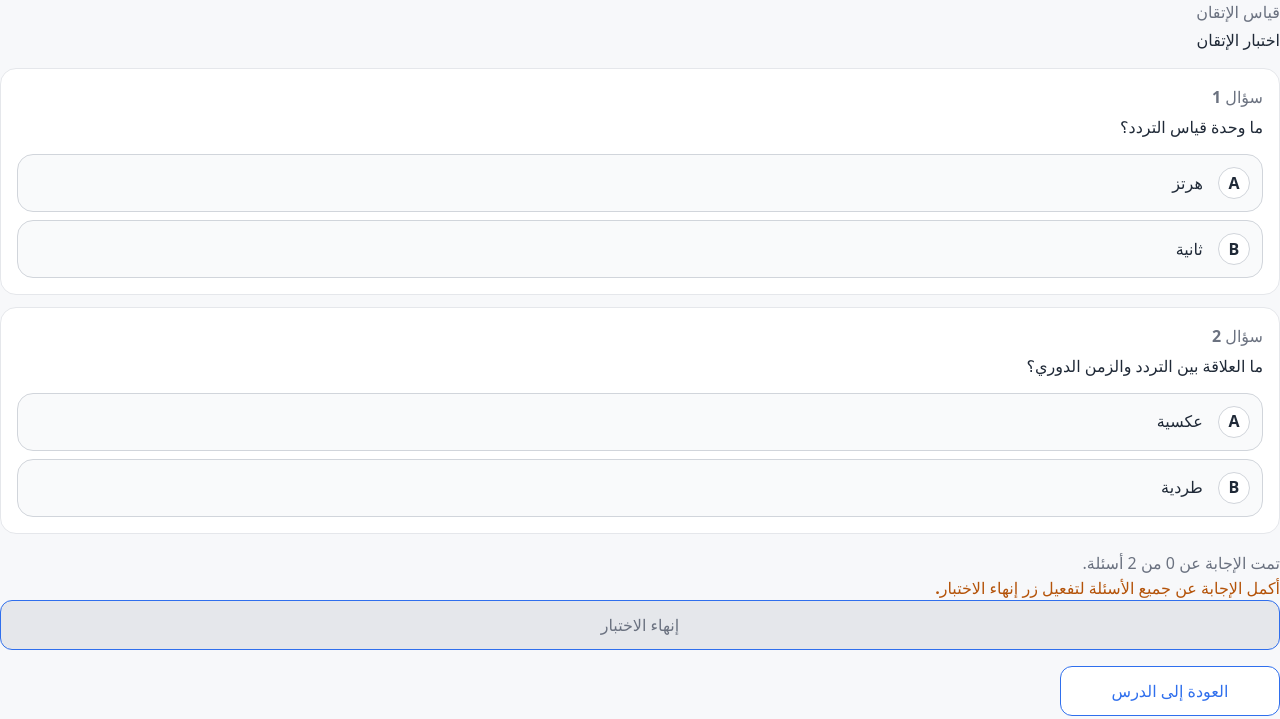
Scenario: MasteryTestView result persistence integration › يعرض النتيجة المحلية فورًا بينما الحفظ ما يزال saving
Click the button "A هرتز".
click(1234, 183)  # box [17,154,1263,212]
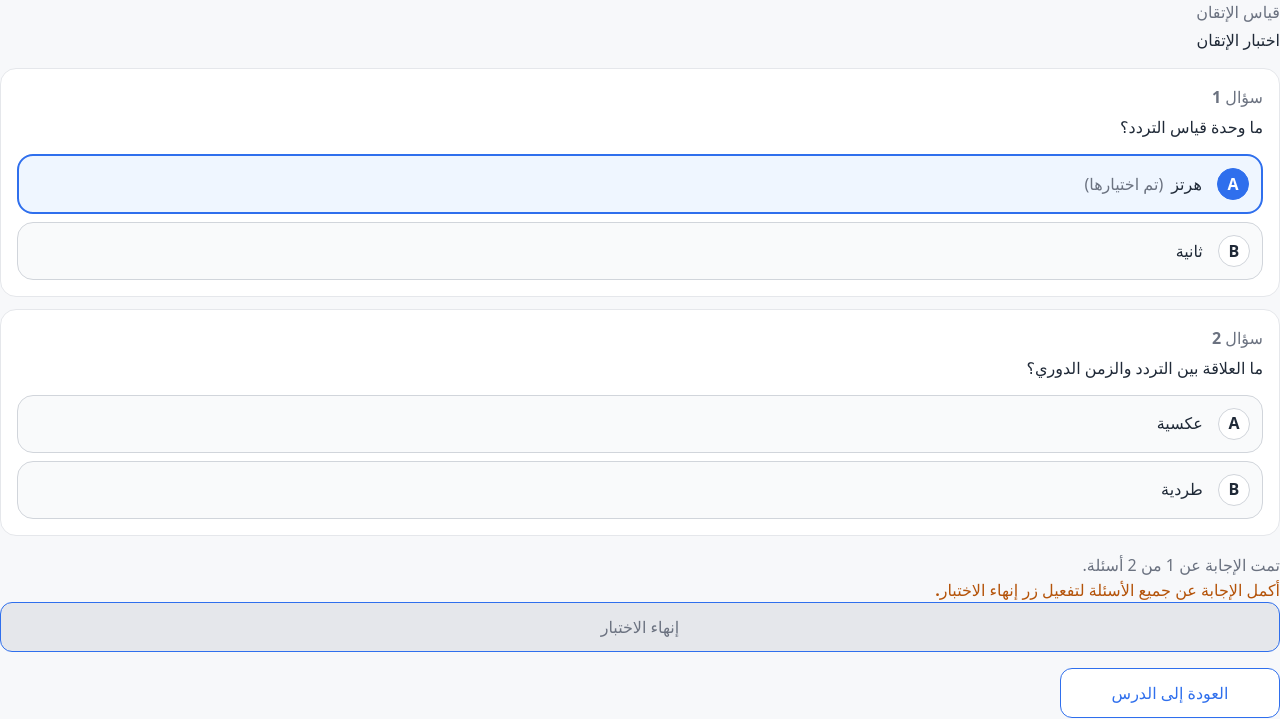
Click the button "A عكسية".
click(1234, 424)  # box [17,395,1263,453]
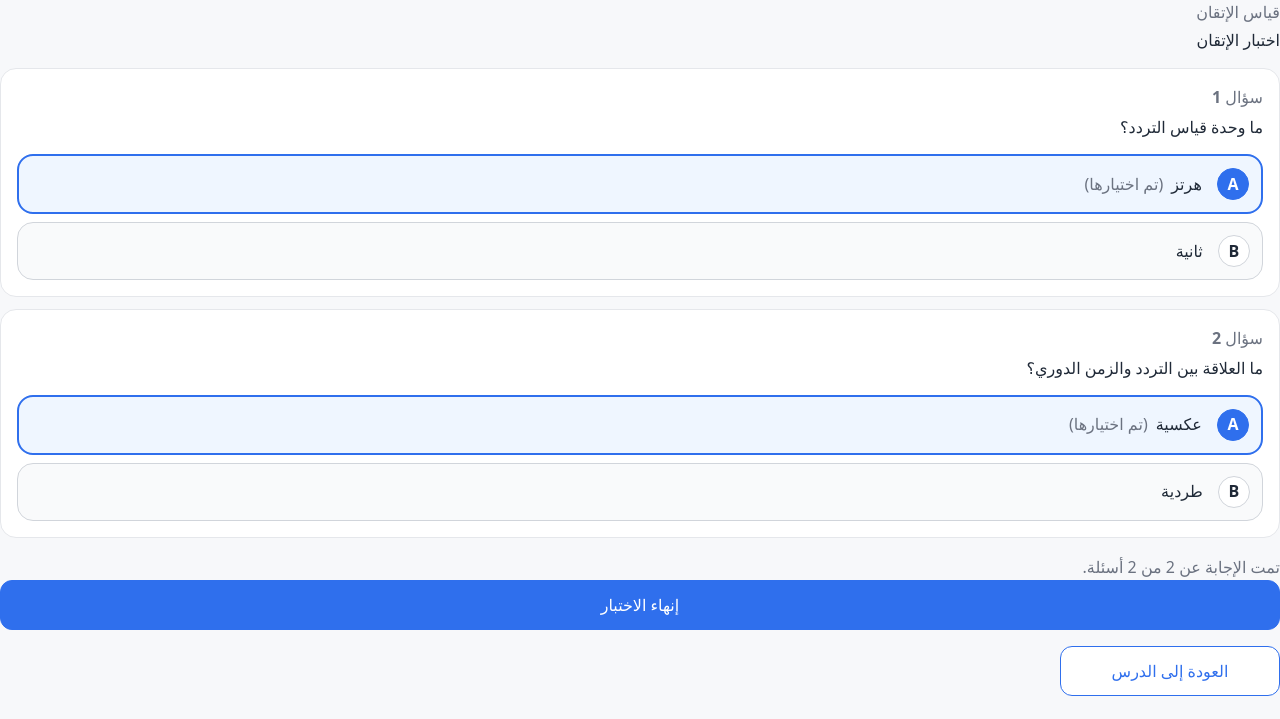
Click the button "إنهاء الاختبار".
click(640, 605)  # box [0,580,1279,630]
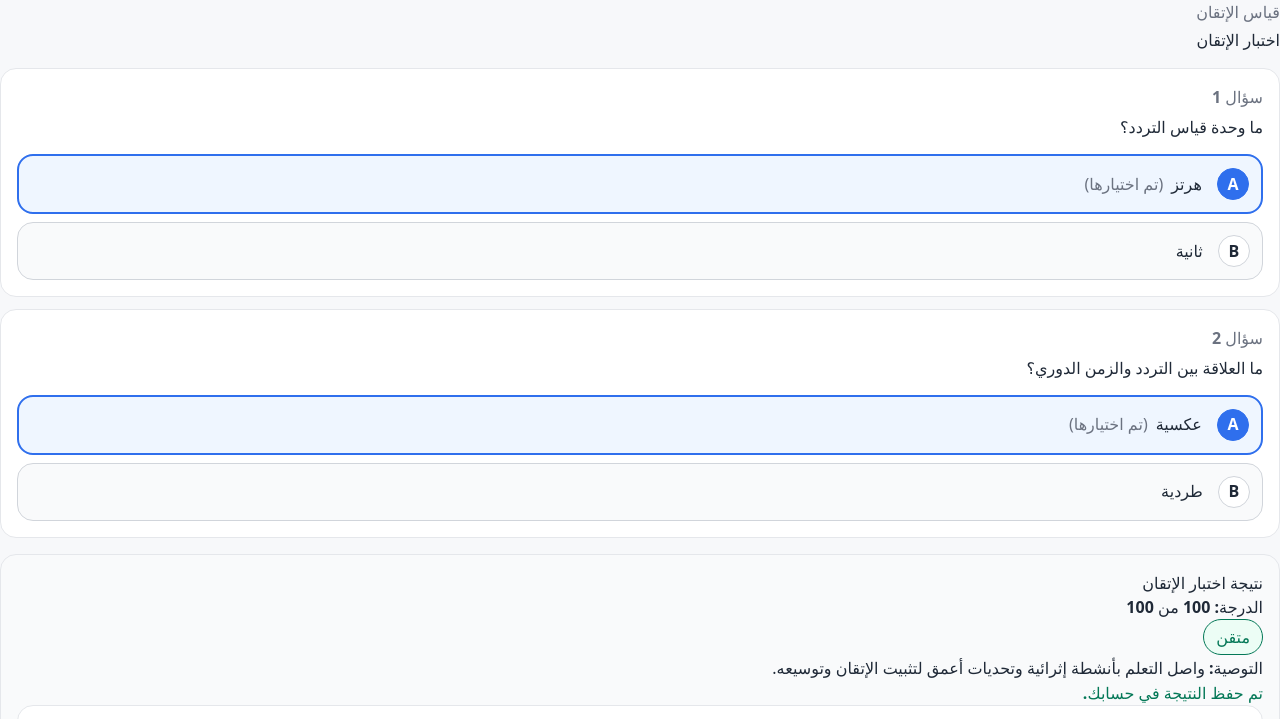
Check: the heading "نتيجة اختبار الإتقان" is shown, box [1142,572,1263,594]
Check: the text "الدرجة: 100 من 100" is shown, box [1126,596,1263,618]
Check: the text "تم حفظ النتيجة في حسابك." is shown, box [1083,682,1263,704]
